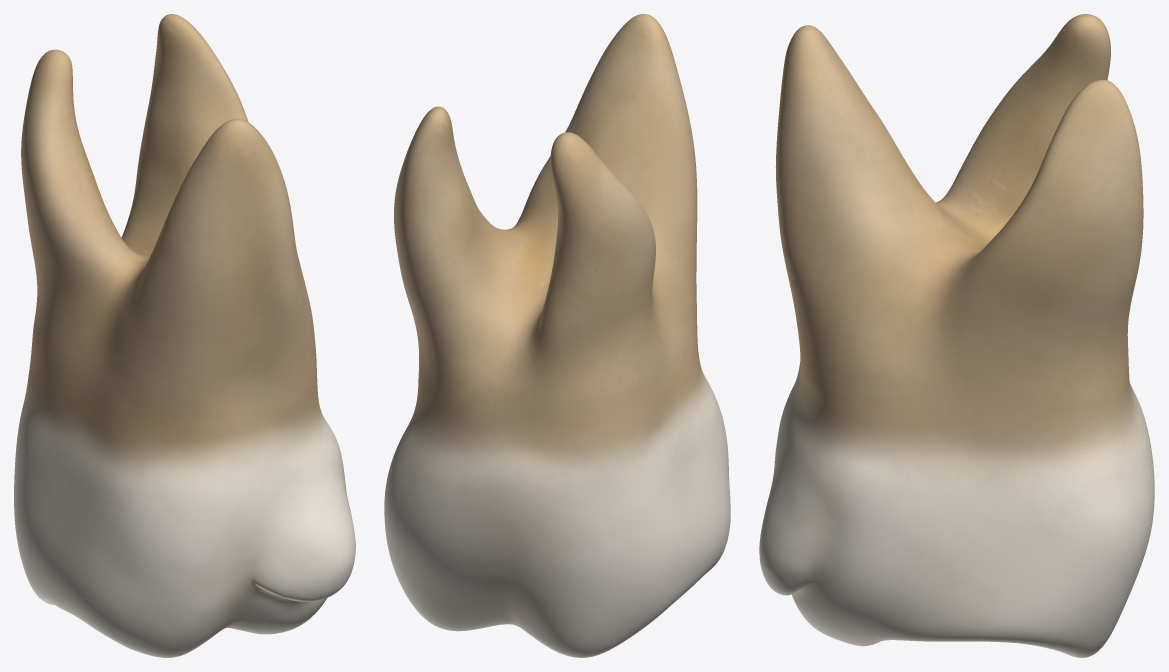
Rendered from maxillary_first_molar_with_cusp_of_carabelli.glb.
3 renders of one model, left to right at view 1: azimuth 30°, elevation 25°; view 2: azimuth 150°, elevation 25°; view 3: azimuth 270°, elevation 25°, orthographic. The views are drawn at different scales.
Parts seen in each view (by area): view 1: Object_4; view 2: Object_4; view 3: Object_4.
Part boxes in pixels (<box>): Object_4: <box>14,14,355,657</box>; Object_4: <box>384,14,730,657</box>; Object_4: <box>759,14,1154,657</box>.
Size of the model in its own units: 0.4025 by 0.7838 by 0.4718.
Materials: 2 (1 with a texture image).
